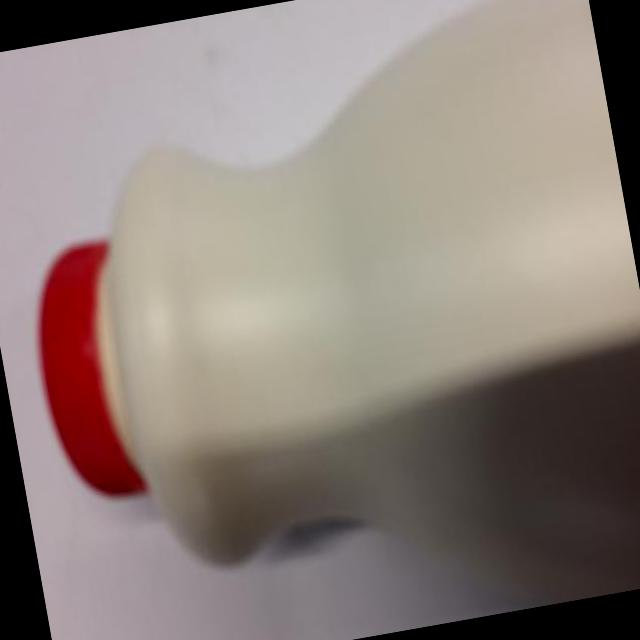bottle: (41, 0, 639, 601)
plastic: (94, 0, 639, 602), (40, 242, 144, 494)
